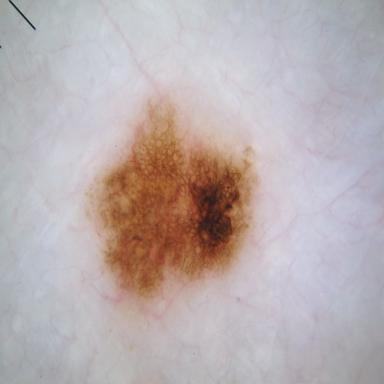nevus: (88, 100, 257, 298)
